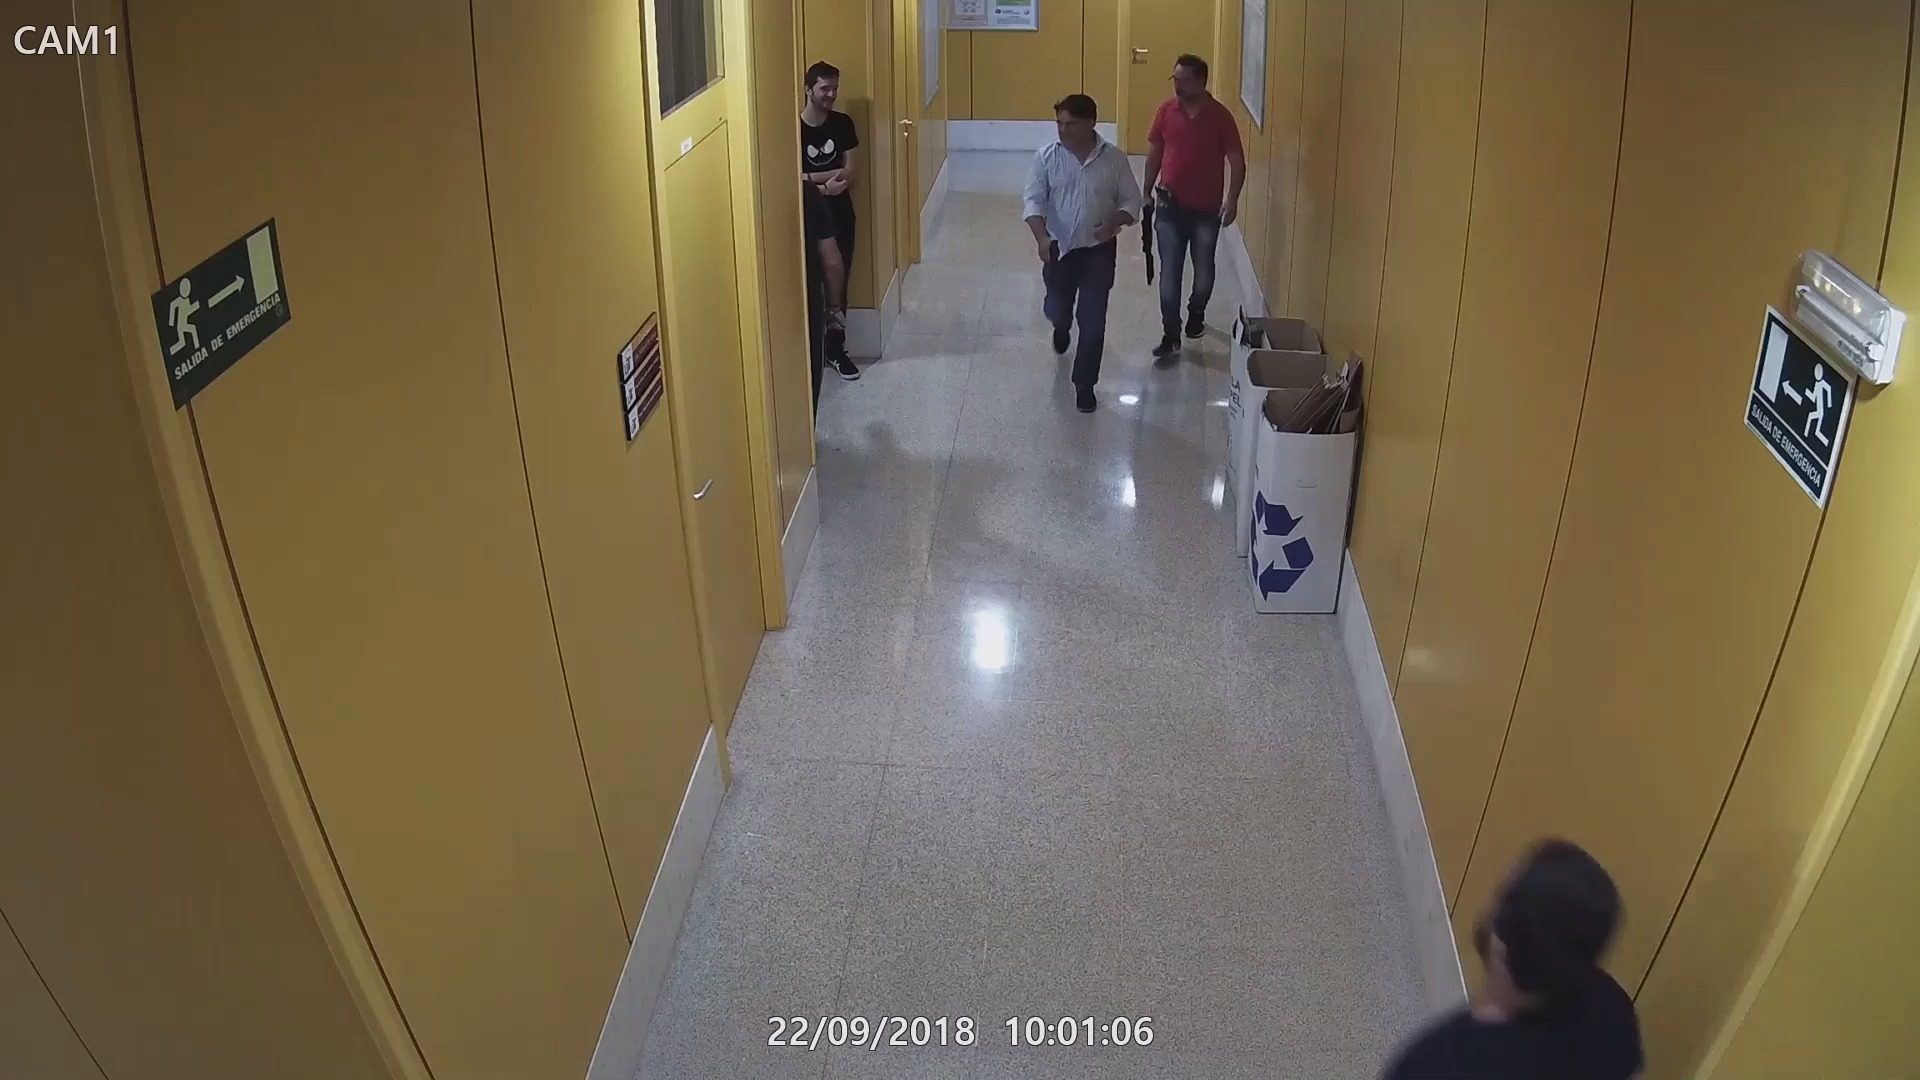Handgun: (1035, 240, 1063, 287), (1156, 185, 1178, 222)
Short_rifle: (1127, 195, 1154, 286)
